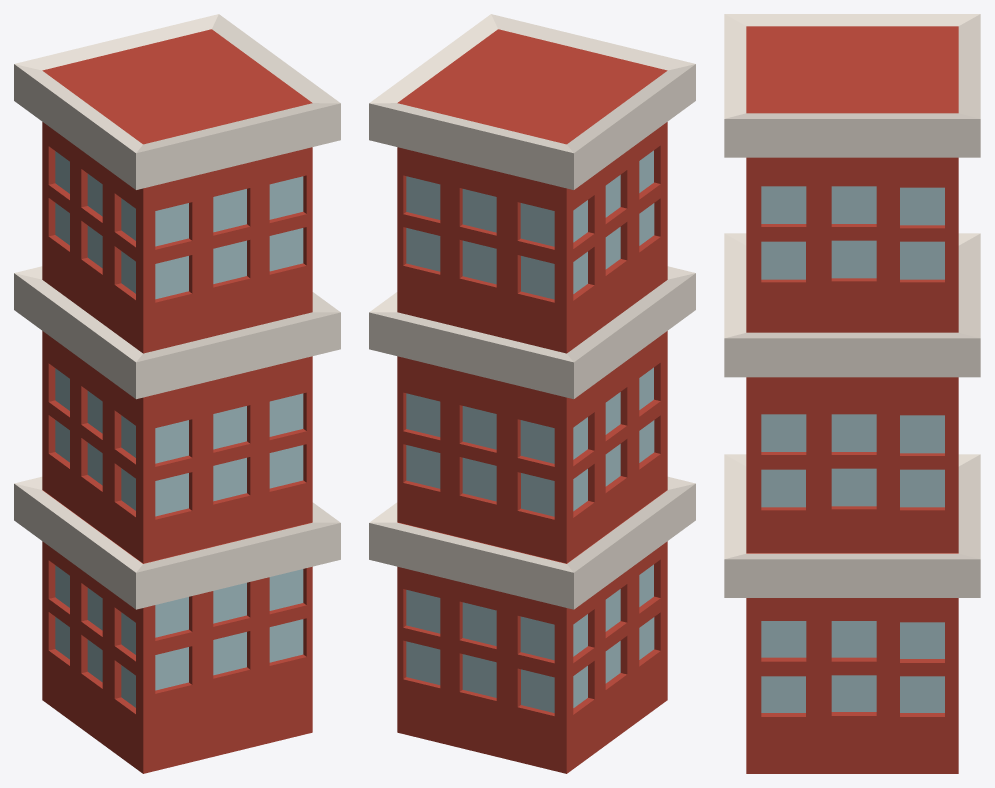
File: apartment.fbx
3 renders of one model, left to right at view 1: azimuth 30°, elevation 25°; view 2: azimuth 150°, elevation 25°; view 3: azimuth 270°, elevation 25°, orthographic. The views are drawn at different scales.
Visible parts, largest first — view 1: Cube; view 2: Cube; view 3: Cube.
Boxes of the visible parts, x1,y1,x2,y2 form: Cube: (14,14,340,773); Cube: (369,14,695,773); Cube: (724,14,980,773).
Size of the model in its own units: 2402 by 7087 by 2478.
